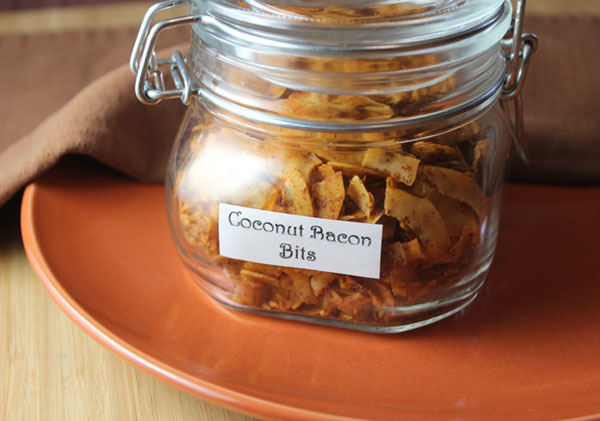bacon: (252, 138, 428, 191)
